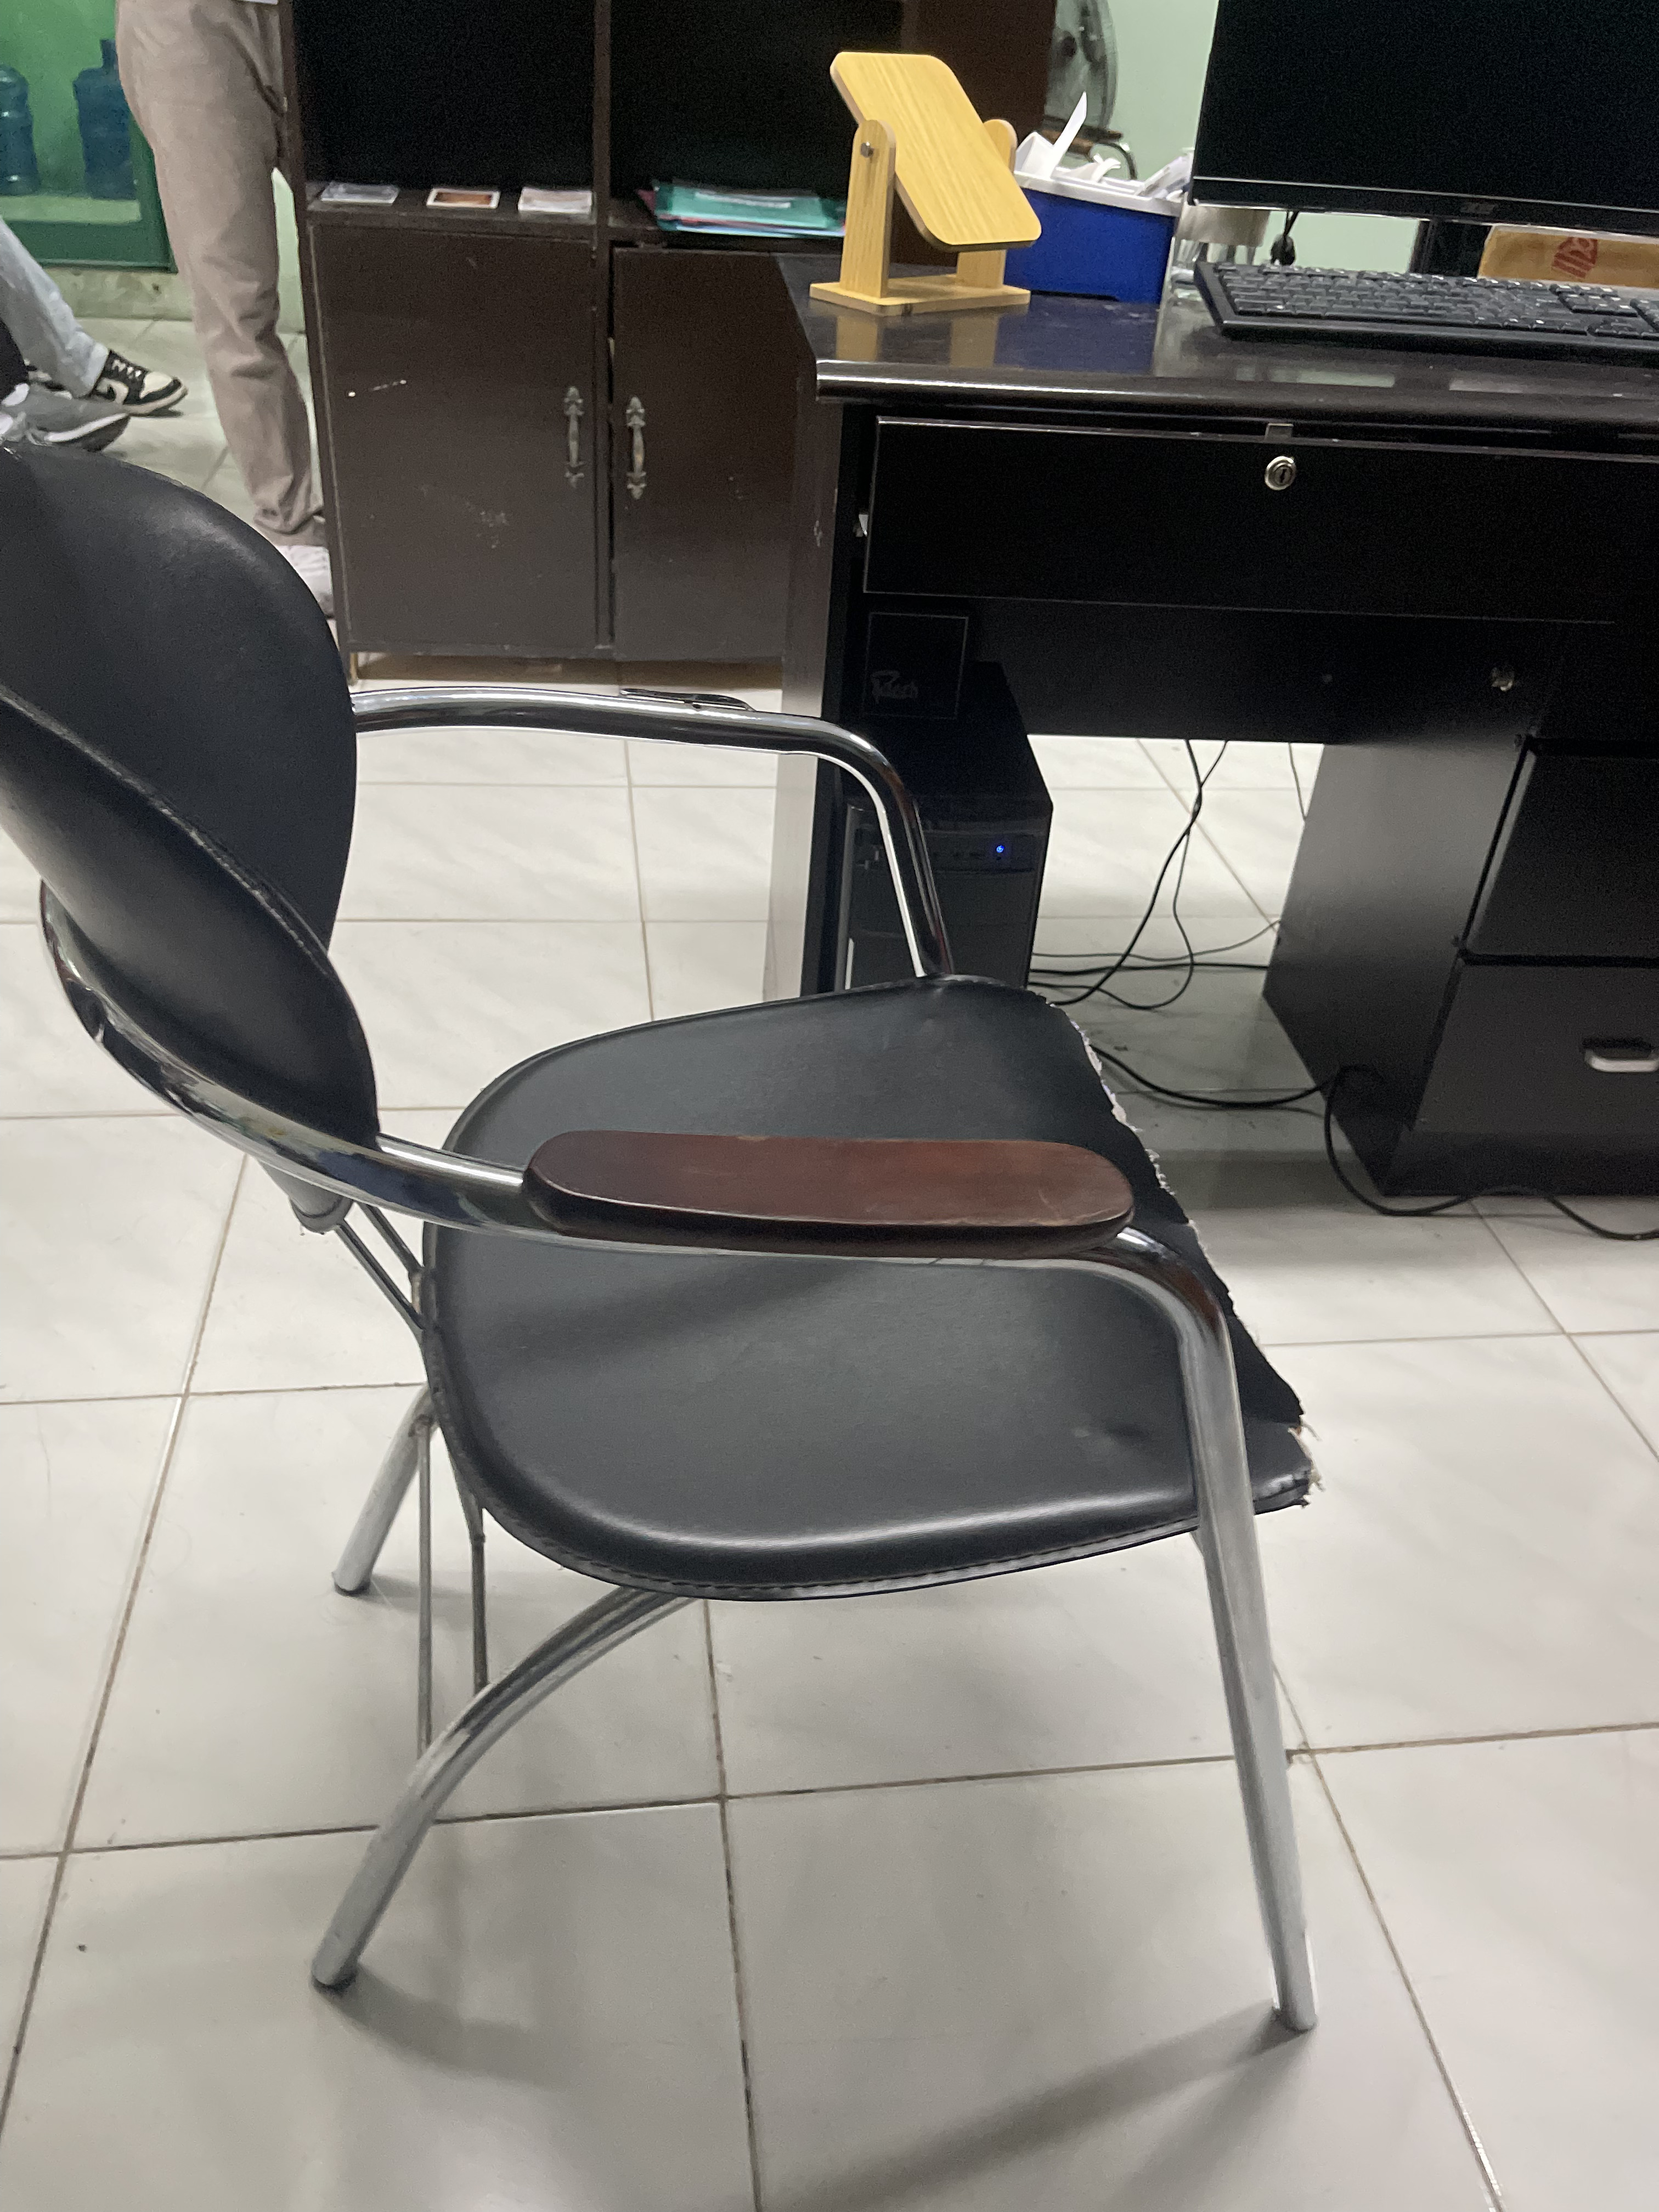chair1: (2, 435, 1347, 2043)
